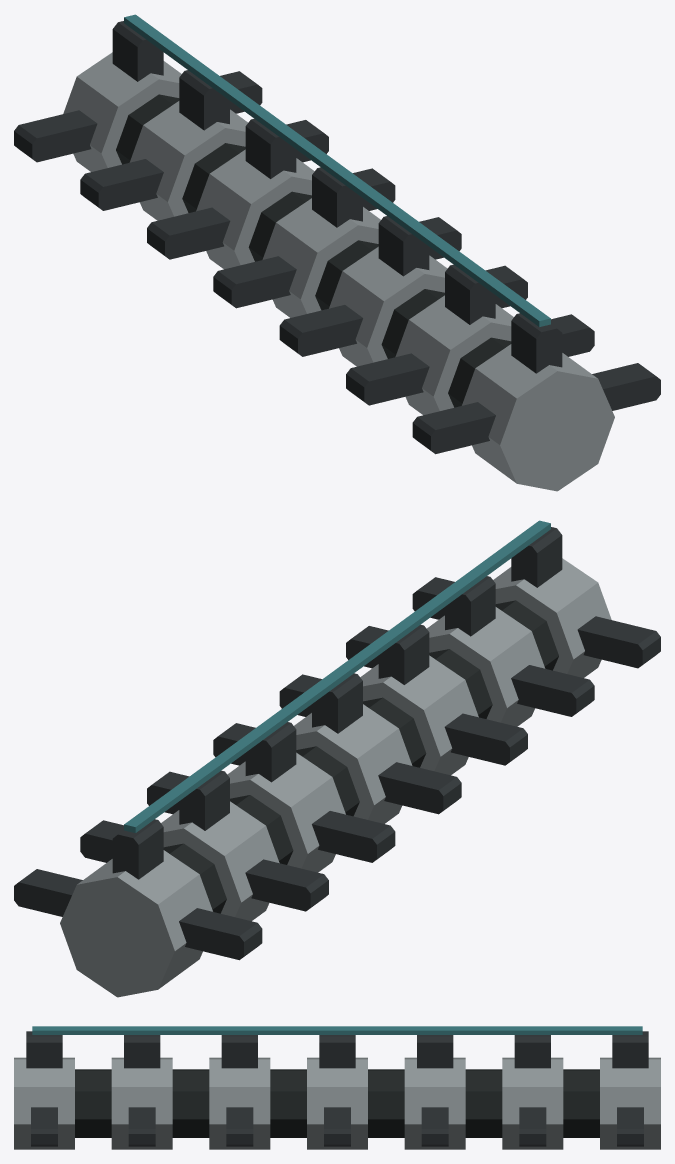
File: ReinforcedSpine.gltf
3 renders of one model, top to bottom at view 1: azimuth 30°, elevation 25°; view 2: azimuth 150°, elevation 25°; view 3: azimuth 270°, elevation 25°, orthographic. The views are drawn at different scales.
Parts seen in each view (by area): view 1: ReinforcedSpine; view 2: ReinforcedSpine; view 3: ReinforcedSpine.
Boxes of the visible parts, left/top/right/bottom form: ReinforcedSpine: left=14, top=14, right=660, bottom=491; ReinforcedSpine: left=14, top=520, right=660, bottom=997; ReinforcedSpine: left=14, top=1026, right=660, bottom=1149.
Bounding box in the file's own units: 0.16 × 0.108 × 0.53.
